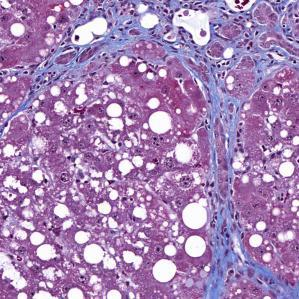fibrosis: (82, 0, 245, 76), (221, 0, 298, 91), (206, 235, 298, 299), (203, 113, 239, 215)
